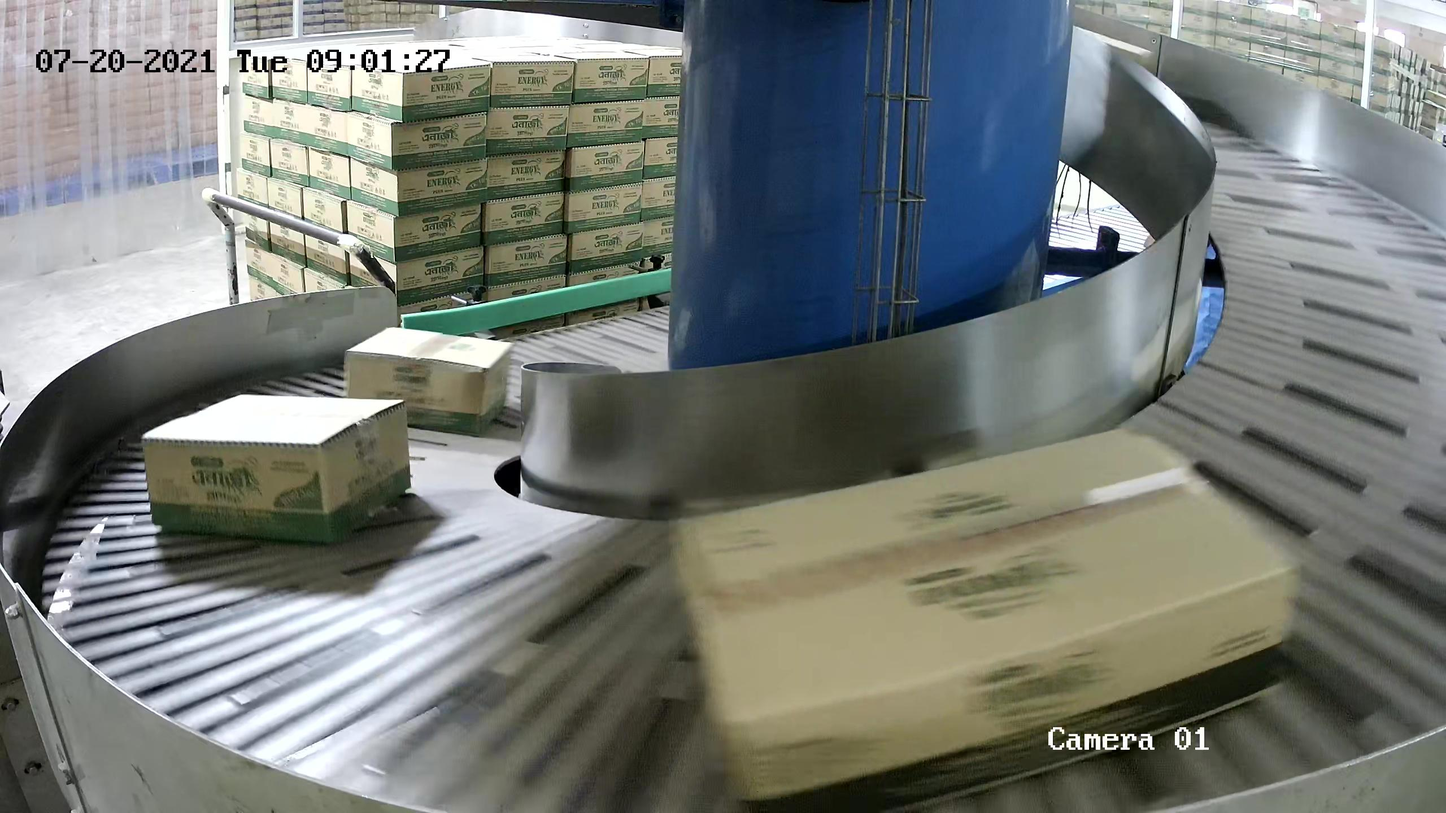Box: (667, 420, 1302, 813), (139, 391, 413, 547), (341, 325, 515, 439)
